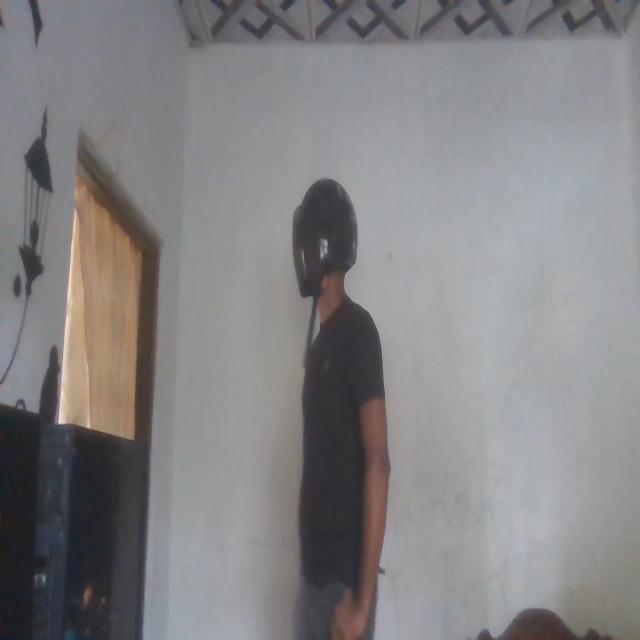Helmet_Wearer: (289, 171, 363, 329)
Person: (271, 173, 395, 640)
